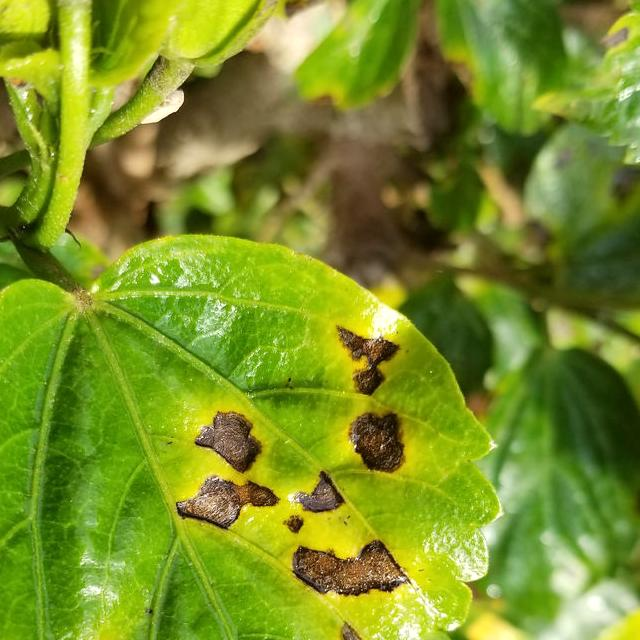Tomato leaf bacterial spot: (0, 233, 519, 640)
